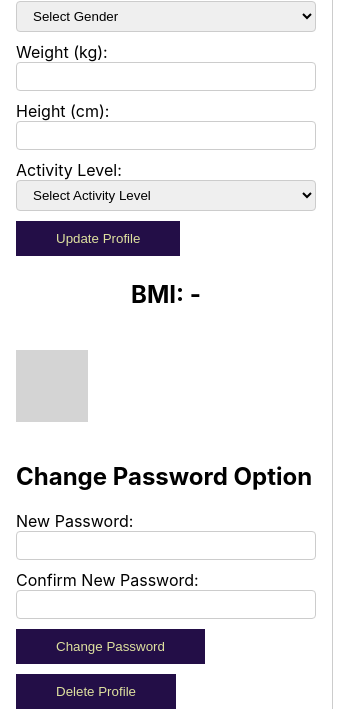
Scenario: Profile › changes password with valid inputs
(page scrolled)
Type "N3wPassw@rd!" into the password field labelled "New Password:" at [166, 546], box [16,531,316,560]
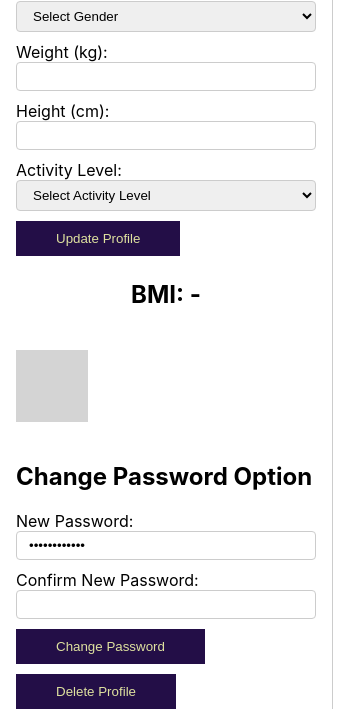
Type "N3wPassw@rd!" into the password field labelled "Confirm New Password:" at [166, 605], box [16,590,316,619]
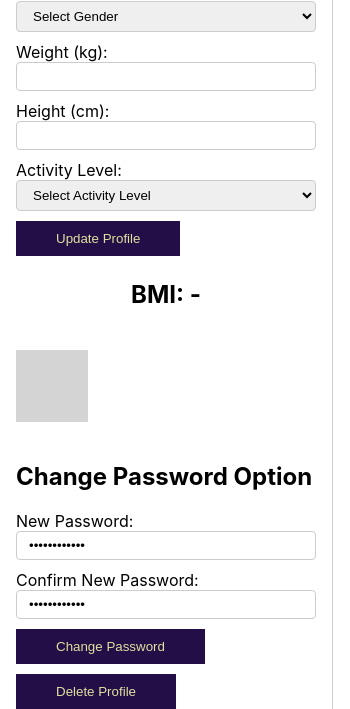
Click the button "Change Password" at [110, 647], box [16,629,205,664]
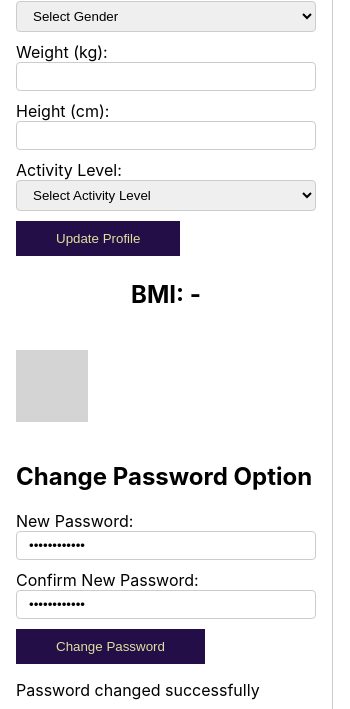
Expected: the text "Password changed successfully" is shown, [16,680,260,700]
